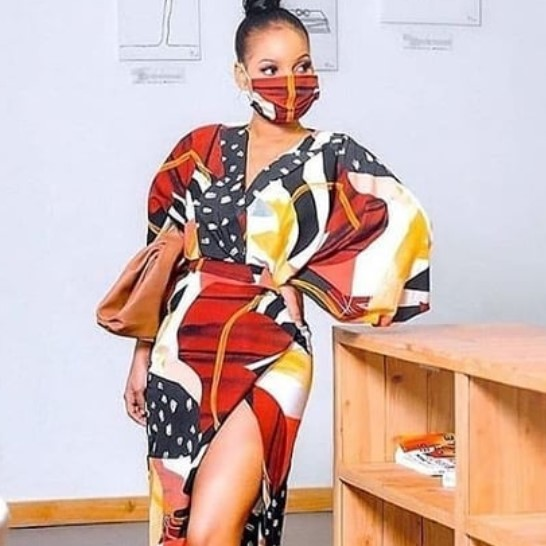face_with_mask: (231, 16, 323, 129)
